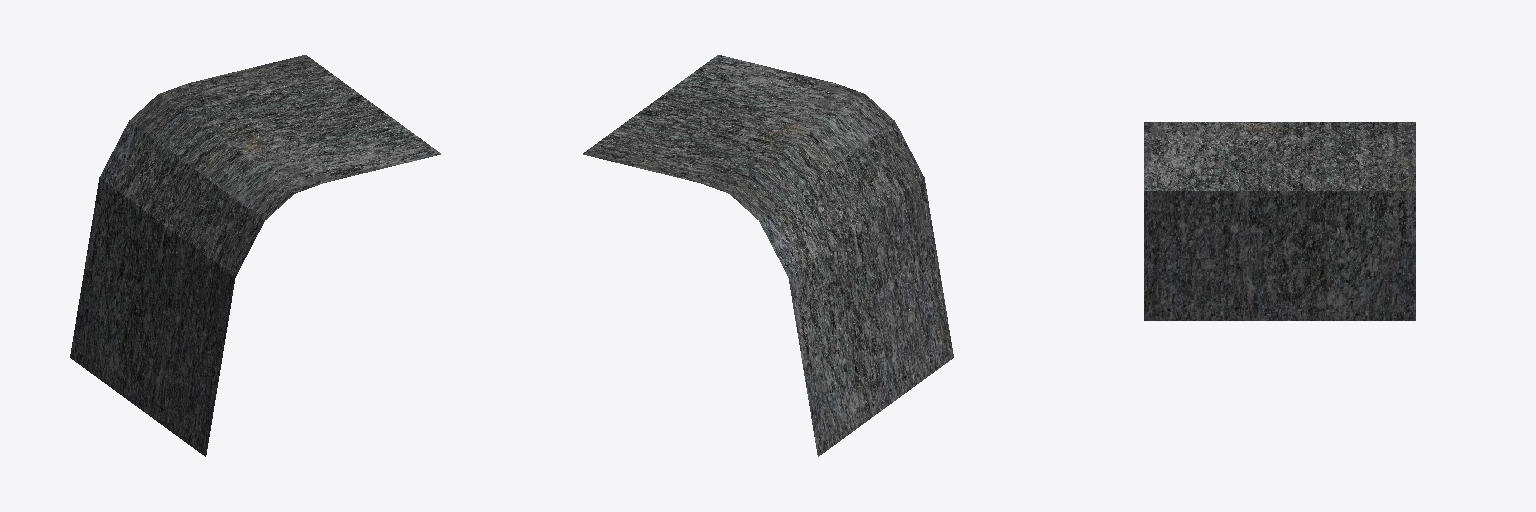
3 renders of one model, left to right at view 1: azimuth 30°, elevation 25°; view 2: azimuth 150°, elevation 25°; view 3: azimuth 270°, elevation 25°, orthographic.
Visible parts, largest first — view 1: Grid_Grid.003; view 2: Grid_Grid.003; view 3: Grid_Grid.003.
Boxes of the visible parts, <box> form: Grid_Grid.003: <box>70,55,440,456</box>; Grid_Grid.003: <box>583,55,953,456</box>; Grid_Grid.003: <box>1144,122,1415,320</box>.
Bounding box in the file's own units: 1 × 0.9943 × 1.
Materials: 1 (1 with a texture image).